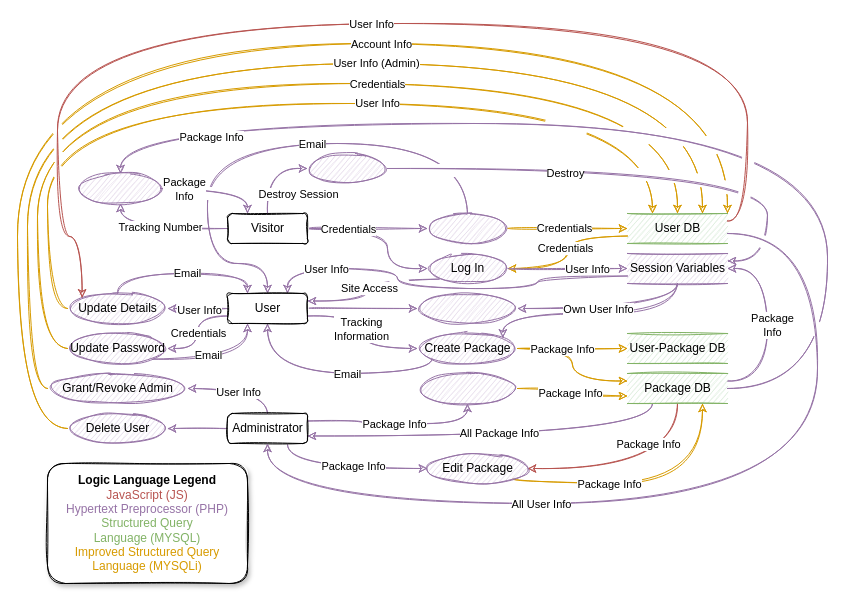
Image size: 846x608. Some labels were removed from this diagram. Here are the shapes that lost their labels. From the top down, the centre of each, then its label:
At pixel 120 188: "Search".
At pixel 347 168: "Log Out".
At pixel 467 228: "Sign Up".
At pixel 467 308: "Delete Account".
At pixel 467 388: "Delete Package".
